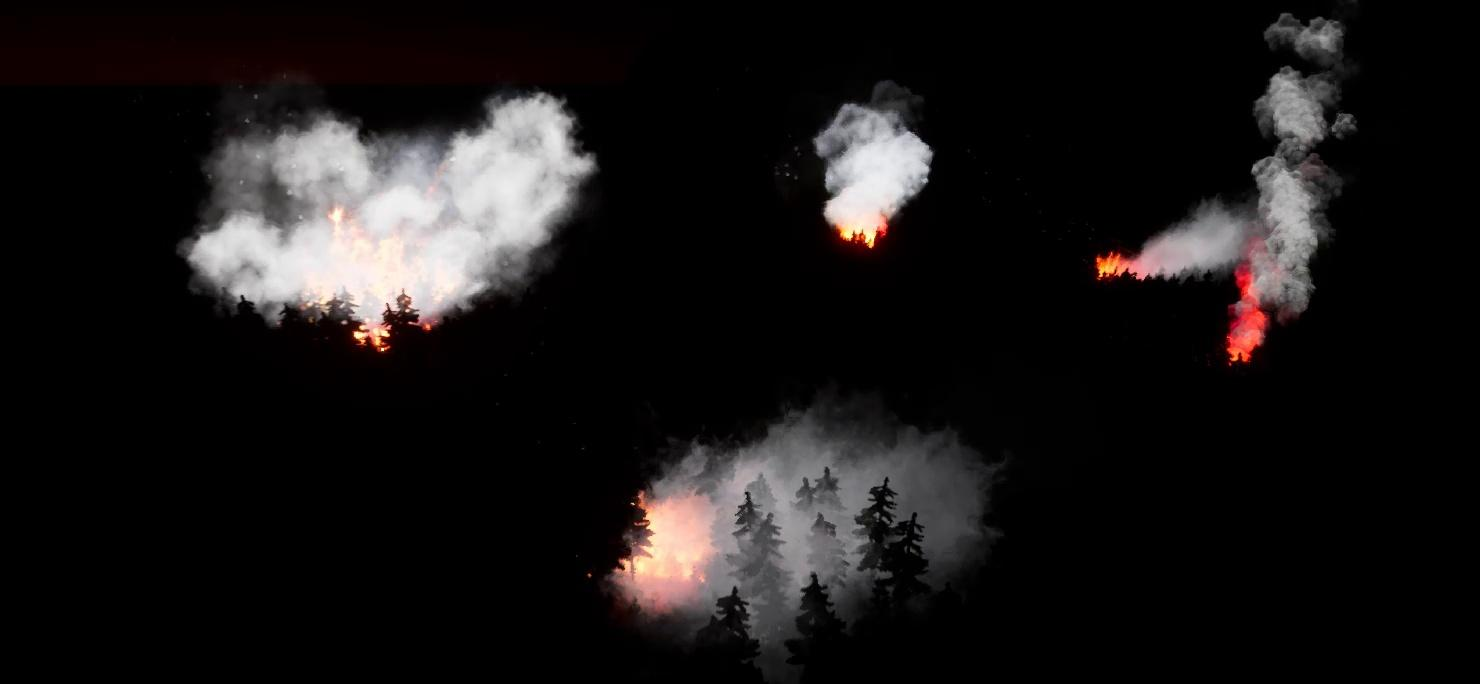fire: (294, 206, 450, 358), (607, 486, 714, 619), (1230, 293, 1278, 363), (830, 214, 891, 247), (1089, 247, 1127, 286)
smoke: (178, 86, 594, 352), (612, 422, 996, 655), (1140, 0, 1360, 332), (809, 101, 932, 234)
